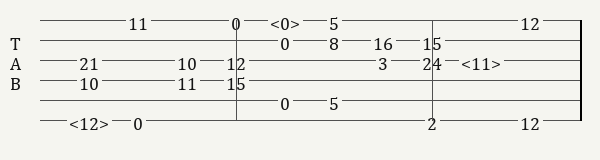0: (133, 112, 147, 128), (231, 12, 245, 28), (280, 92, 294, 108), (280, 32, 294, 48)
10: (79, 72, 103, 88), (177, 52, 201, 68)
11: (128, 12, 152, 28), (177, 72, 201, 88)
12: (226, 52, 250, 68), (520, 12, 544, 28), (520, 112, 544, 128)
15: (226, 72, 250, 89), (422, 32, 446, 49)
16: (373, 32, 397, 48)
2: (427, 112, 441, 128)
21: (79, 52, 103, 68)
24: (422, 52, 446, 68)
3: (378, 52, 392, 68)
5: (329, 92, 343, 109), (329, 12, 343, 29)
8: (329, 32, 343, 48)
harmonic: (69, 112, 113, 128), (461, 52, 505, 68), (270, 12, 304, 28)
